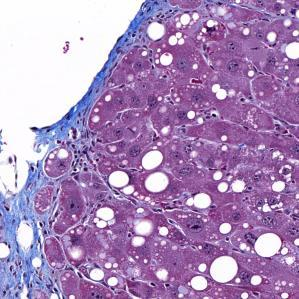fibrosis: (3, 194, 61, 295), (49, 108, 101, 168), (108, 23, 143, 76)
